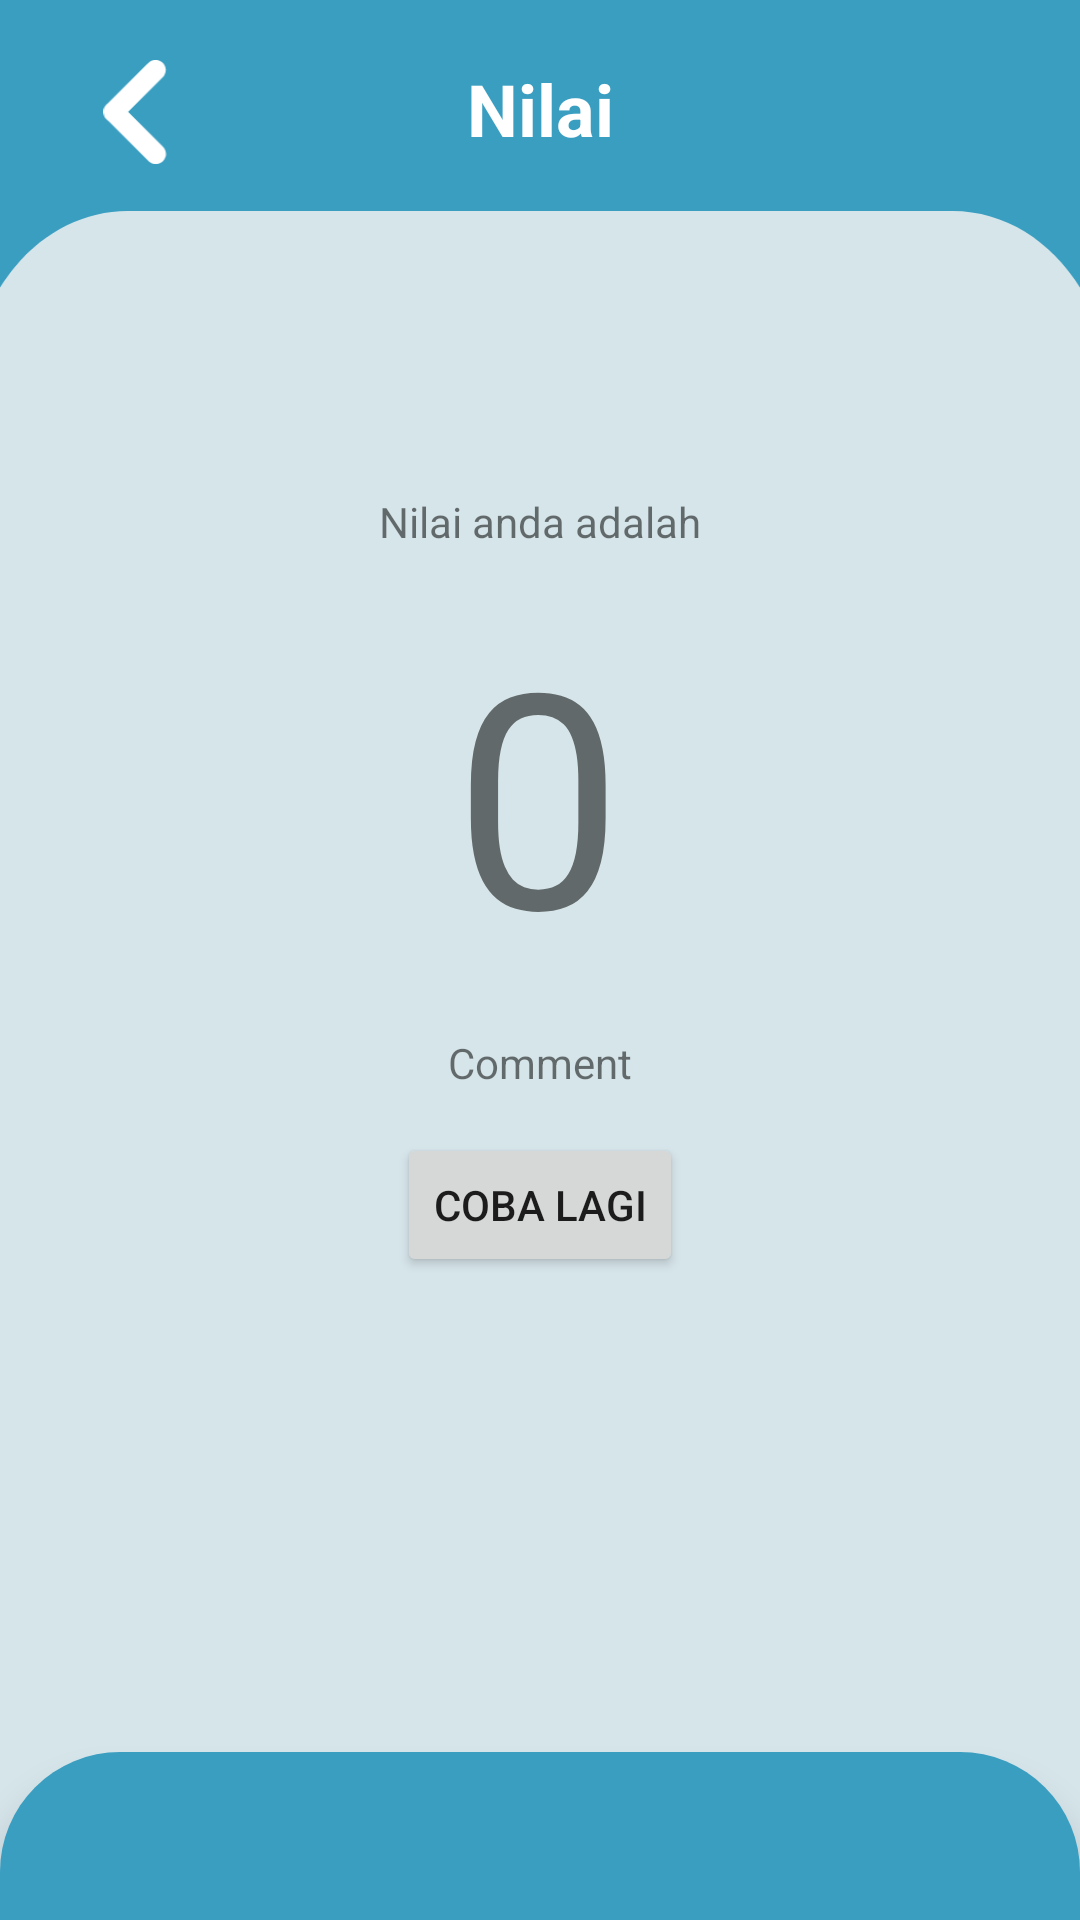

Named icons in this screenshot (1080*1920) and their centers, (x,y):
back: (135,112)
